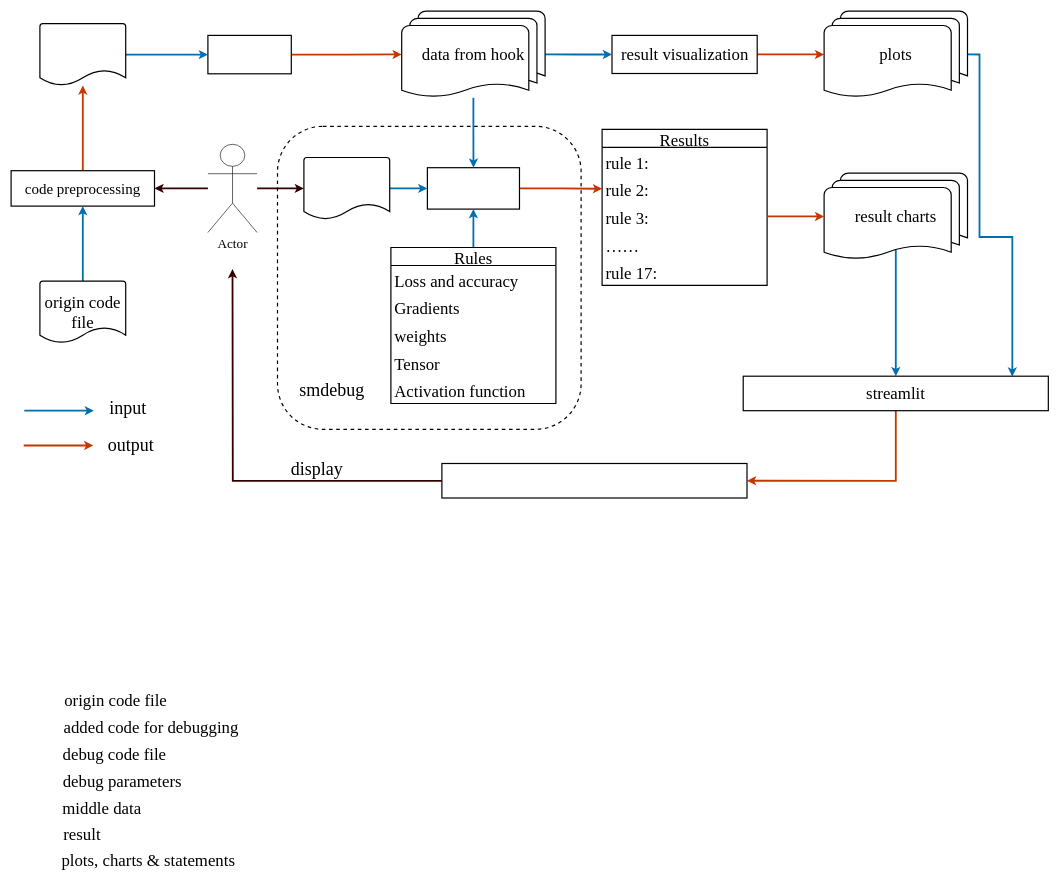
This 1059x881 diagram has some shape labels left out. The centre of each missing label's shape, as x and y in pixels:
code file: the point at 82,54
config file: the point at 346,188
debugging: the point at 473,188
HTML: the point at 594,480
running: the point at 249,54
